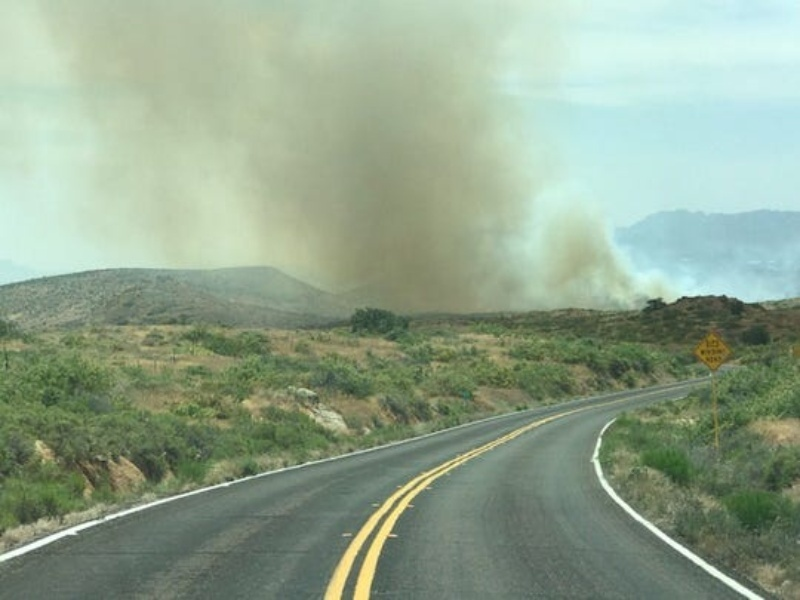smoke: (117, 1, 607, 287)
